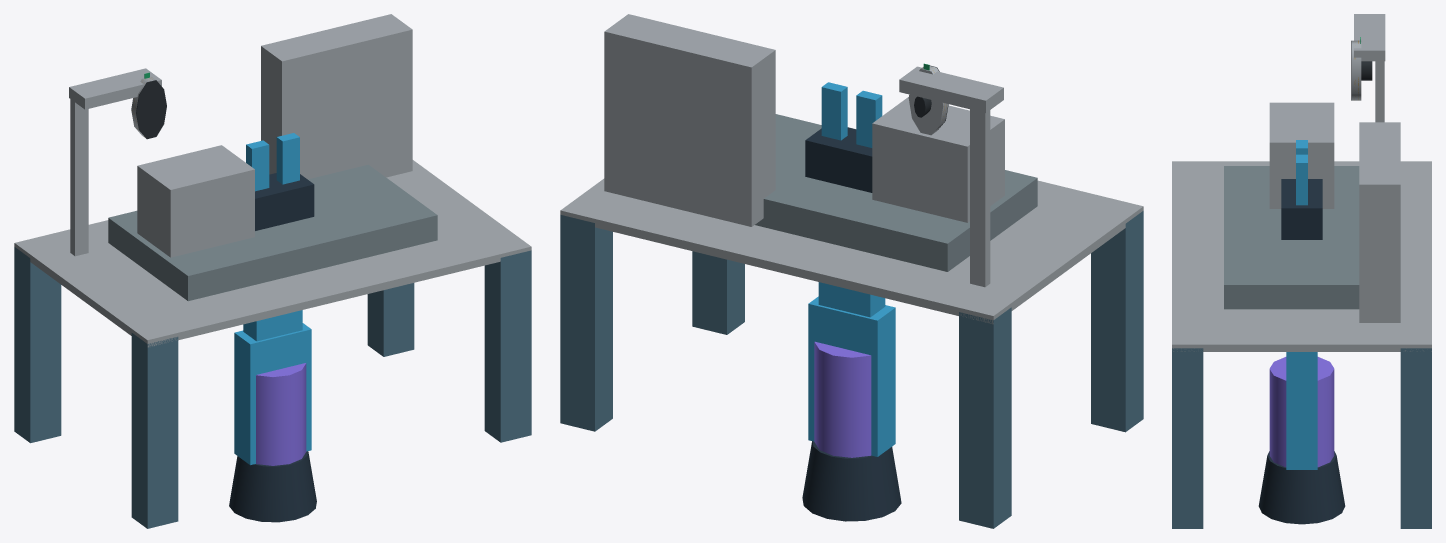
The picture shows the model from 3 angles, left to right: view 1: azimuth 30°, elevation 25°; view 2: azimuth 150°, elevation 25°; view 3: azimuth 270°, elevation 25°; orthographic projection. The views are drawn at different scales.
Visible parts, largest first — view 1: g4, g0006, g0003, g0005, g1, g3, g0, shoulder, visualJoint, base, g2, g0004 (+6 smaller); view 2: g0006, g4, g0003, g0, g2, g0005, g1, shoulder, visualJoint, base, g3, g0004 (+6 smaller); view 3: g4, g0003, g0006, g2, g3, g0005, base, shoulder, visualJoint, tool, g0002, gripperRight (+2 smaller).
Part boxes in pixels (<box>): g4: <box>14,160,531,347</box>; g0006: <box>261,14,412,179</box>; g0003: <box>108,164,437,301</box>; g0005: <box>137,145,254,257</box>; g1: <box>131,333,178,528</box>; g3: <box>484,250,531,442</box>; g0: <box>14,247,61,443</box>; shoulder: <box>234,323,311,465</box>; visualJoint: <box>256,363,306,465</box>; base: <box>229,451,316,522</box>; g2: <box>367,283,414,356</box>; g0004: <box>70,99,88,256</box>; g0006: <box>604,14,775,226</box>; g4: <box>560,178,1143,324</box>; g0003: <box>755,114,1037,271</box>; g0: <box>959,307,1011,528</box>; g2: <box>560,214,612,431</box>; g0005: <box>872,97,1004,222</box>; g1: <box>1091,211,1143,432</box>; shoulder: <box>808,296,895,456</box>; visualJoint: <box>814,341,871,457</box>; base: <box>802,441,901,521</box>; g3: <box>692,251,744,334</box>; g0004: <box>970,109,990,287</box>; g4: <box>1172,161,1431,351</box>; g0003: <box>1224,166,1359,309</box>; g0006: <box>1359,122,1400,322</box>; g2: <box>1400,348,1431,528</box>; g3: <box>1172,348,1203,528</box>; g0005: <box>1269,102,1334,208</box>; base: <box>1258,451,1345,524</box>; shoulder: <box>1286,352,1317,469</box>; visualJoint: <box>1269,357,1334,467</box>; tool: <box>1281,179,1322,239</box>; g0002: <box>1354,14,1385,61</box>; gripperRight: <box>1296,154,1307,205</box>.
Bounding box in the file's own units: 2 × 2.15 × 1.2.
